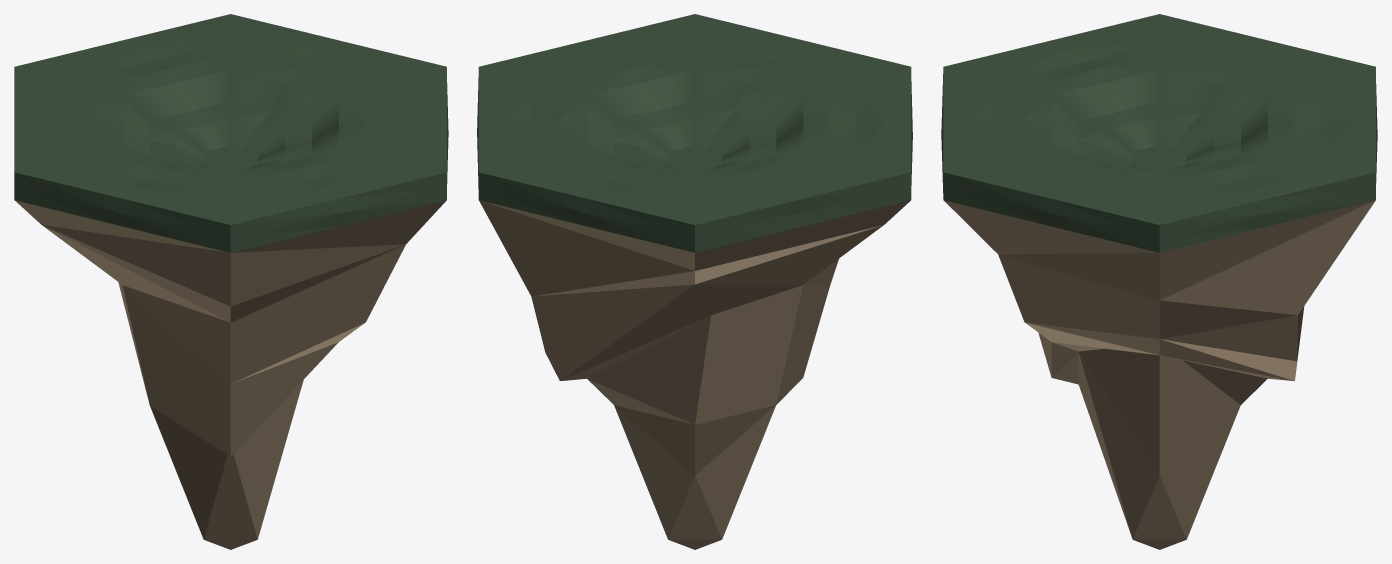
The model's file is island_indent2.fbx.
The picture shows the model from 3 angles, left to right: view 1: azimuth 30°, elevation 25°; view 2: azimuth 150°, elevation 25°; view 3: azimuth 270°, elevation 25°; orthographic projection.
Parts seen in each view (by area): view 1: landmass5; view 2: landmass5; view 3: landmass5.
Part boxes in pixels (x1,y1,x2,y2): landmass5: (14,14,448,549); landmass5: (477,14,912,549); landmass5: (941,14,1377,549).
Size of the model in its own units: 20.62 by 19.68 by 18.01.
